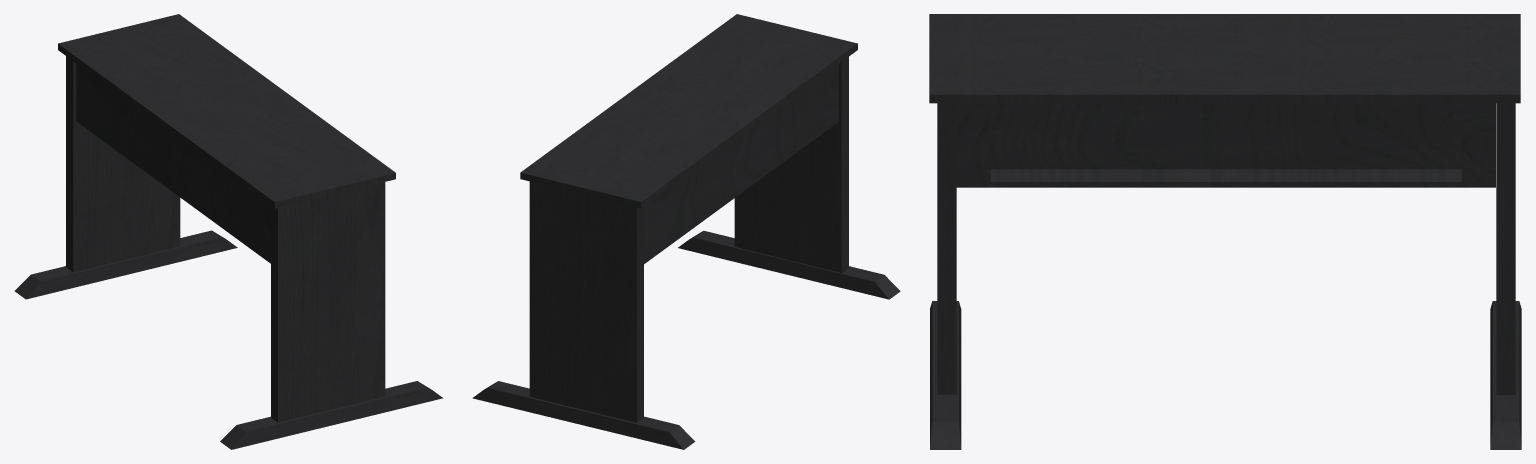
Rendered from keynoard_table.fbx.
3 renders of one model, left to right at view 1: azimuth 30°, elevation 25°; view 2: azimuth 150°, elevation 25°; view 3: azimuth 270°, elevation 25°, orthographic. The views are drawn at different scales.
Visible parts, largest first — view 1: Plane.001; view 2: Plane.001; view 3: Plane.001.
Part boxes in pixels (<box>): Plane.001: <box>14,14,442,449</box>; Plane.001: <box>472,14,900,449</box>; Plane.001: <box>929,14,1521,449</box>.
Bounding box in the file's own units: 362 × 387 × 642.
